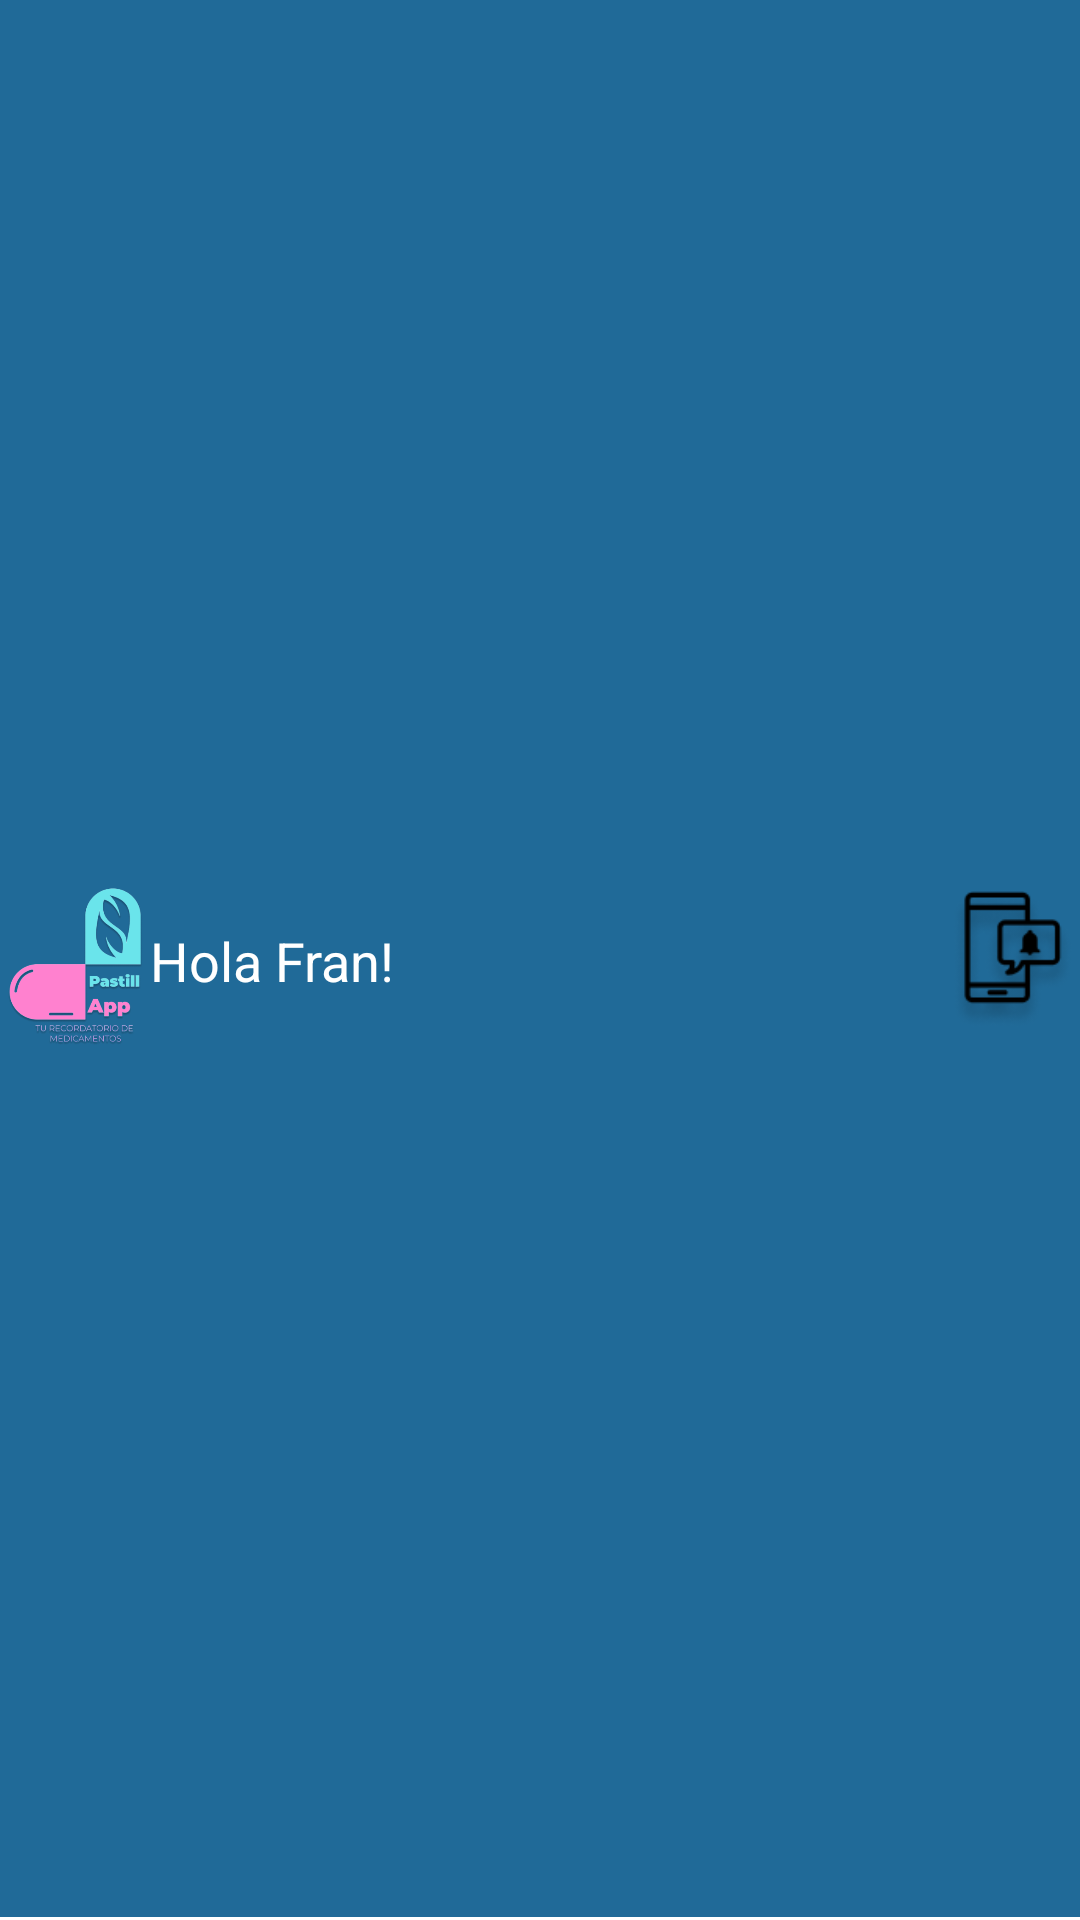

Where icons sit on this 1080px x 1920px app screen, as BBox(x1, y1, x2, y2):
mobile: BBox(964, 891, 1061, 1005)
